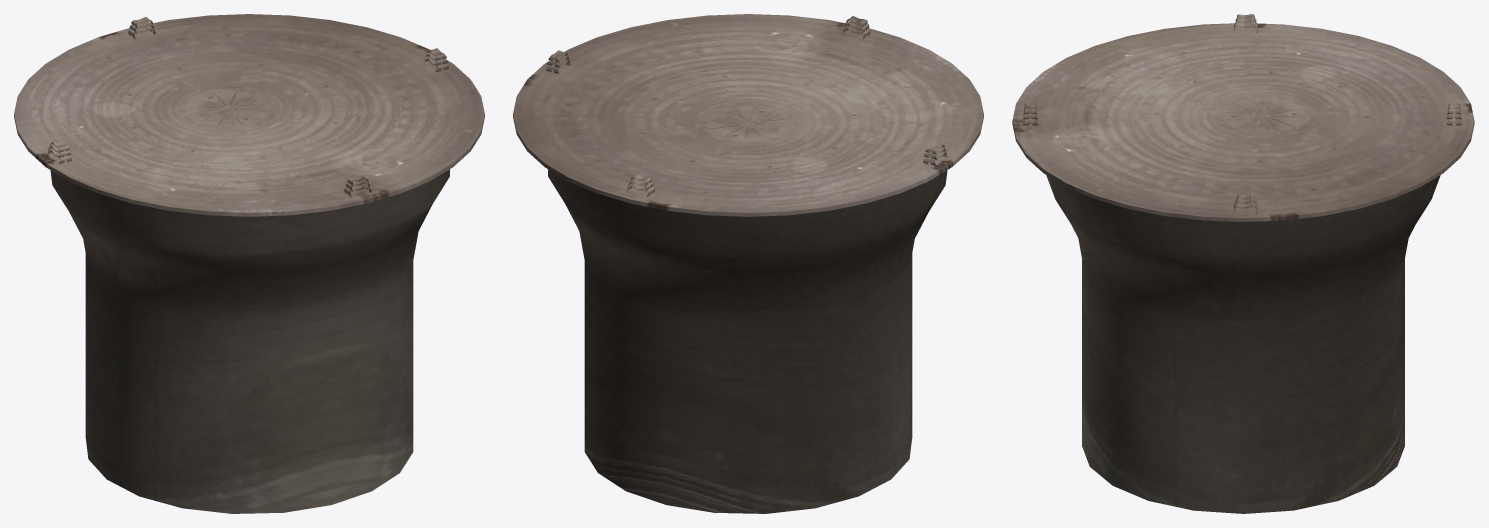
3 views of the same model, side by side, from view 1: azimuth 30°, elevation 25°; view 2: azimuth 150°, elevation 25°; view 3: azimuth 270°, elevation 25° (orthographic).
Parts seen in each view (by area): view 1: pCylinder1, Cylinder02; view 2: pCylinder1, Cylinder02; view 3: pCylinder1, Cylinder02.
Boxes of the visible parts, box(x1,y1,x2,y2) form: pCylinder1: box(50, 169, 449, 513); Cylinder02: box(14, 14, 484, 216); pCylinder1: box(548, 169, 947, 513); Cylinder02: box(513, 14, 983, 216); pCylinder1: box(1046, 175, 1440, 513); Cylinder02: box(1012, 23, 1474, 221).
Bounding box in the file's own units: 2.58 × 2.1 × 2.58.
Materials: 2 (2 with a texture image).
